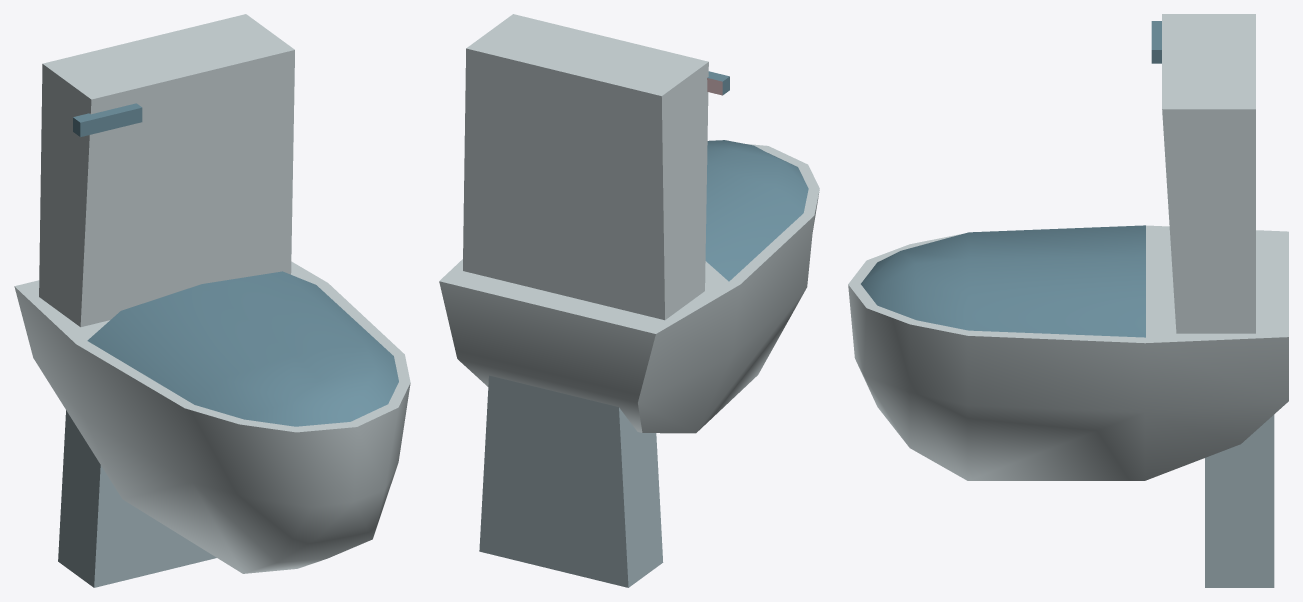
The model's file is bathroom_item_033.glb.
3 views of the same model, side by side, from view 1: azimuth 30°, elevation 25°; view 2: azimuth 150°, elevation 25°; view 3: azimuth 270°, elevation 25° (orthographic). The views are drawn at different scales.
Parts seen in each view (by area): view 1: bathroom_item_033; view 2: bathroom_item_033; view 3: bathroom_item_033.
Part boxes in pixels (<box>): bathroom_item_033: <box>14,14,410,587</box>; bathroom_item_033: <box>439,14,819,587</box>; bathroom_item_033: <box>848,14,1288,587</box>.
Bounding box in the file's own units: 0.5407 × 1.05 × 0.8553.
Materials: 1 (1 with a texture image).
